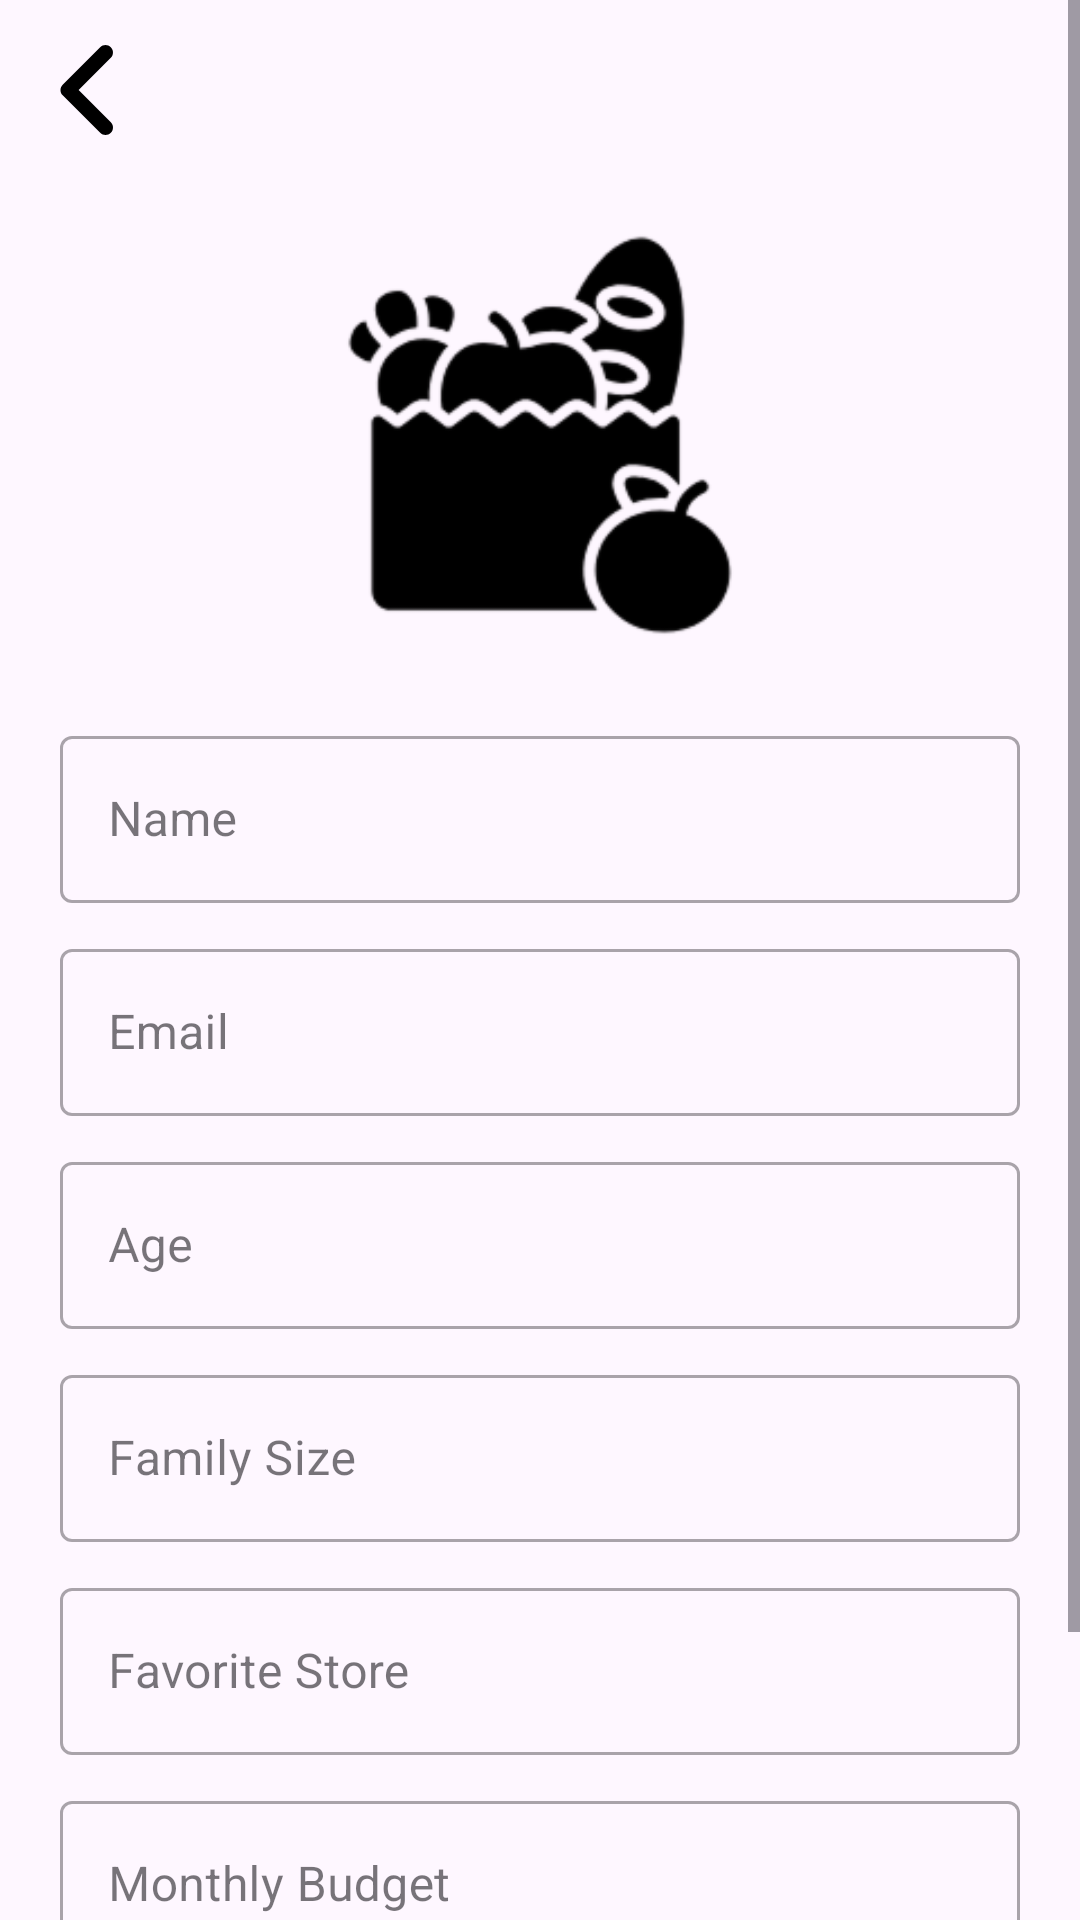

Where icons sit on this 1080x1920 app screen, as {"x1": x1, "y1": y1, "x2": x2, "y2": y2}:
Back: {"x1": 60, "y1": 45, "x2": 113, "y2": 135}
